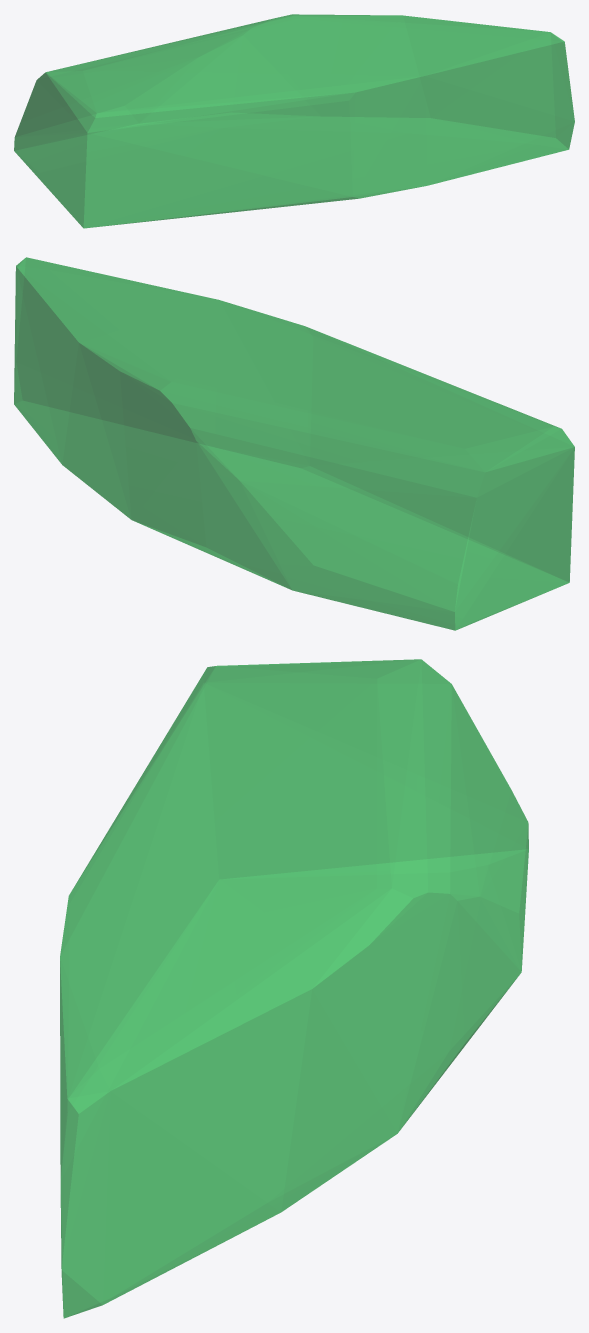
The picture shows the model from 3 angles, top to bottom: view 1: azimuth 30°, elevation 25°; view 2: azimuth 150°, elevation 25°; view 3: azimuth 270°, elevation 25°; orthographic projection. The views are drawn at different scales.
Parts seen in each view (by area): view 1: Shape_IndexedFaceSet.001_Shape_IndexedFaceSet.5536; view 2: Shape_IndexedFaceSet.001_Shape_IndexedFaceSet.5536; view 3: Shape_IndexedFaceSet.001_Shape_IndexedFaceSet.5536.
Boxes of the visible parts, left/top/right/bottom form: Shape_IndexedFaceSet.001_Shape_IndexedFaceSet.5536: left=14, top=14, right=574, bottom=228; Shape_IndexedFaceSet.001_Shape_IndexedFaceSet.5536: left=14, top=257, right=574, bottom=630; Shape_IndexedFaceSet.001_Shape_IndexedFaceSet.5536: left=60, top=659, right=528, bottom=1318.
Bounding box in the file's own units: 0.515 × 0.1327 × 0.2314.
